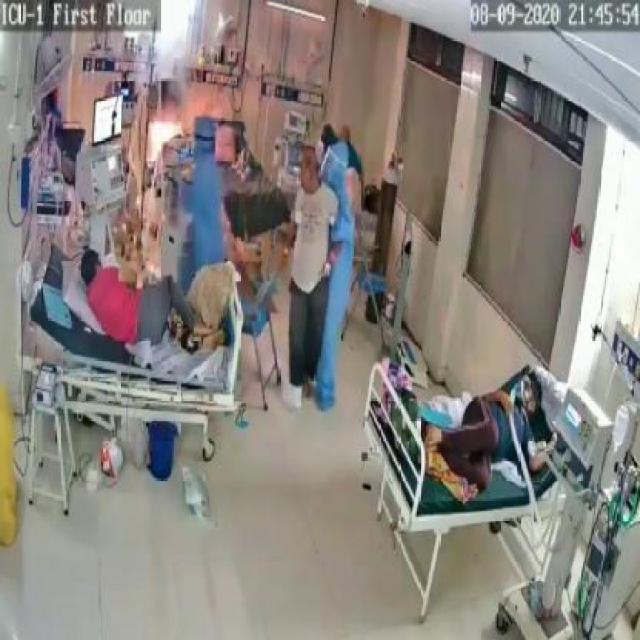fire: (146, 122, 188, 160)
